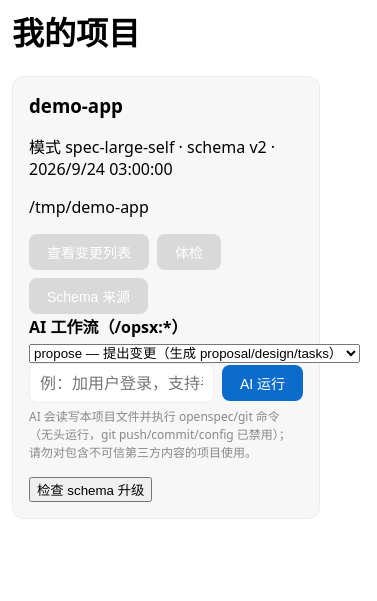
Scenario: ProjectsPage 项目列表 › 点击"体检"跑 cliRun 并展示输出
Click the button "体检". click: (189,252)
box: [157,234,221,270]
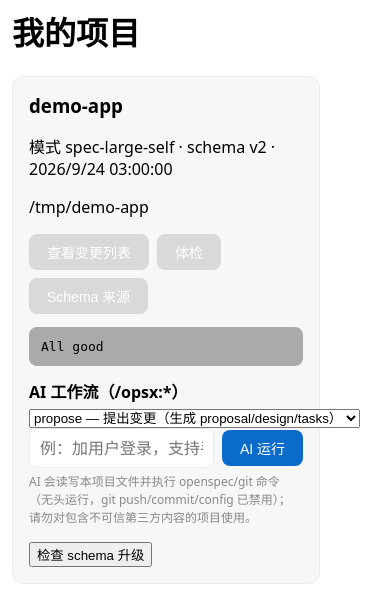
Check: the text "All good" is shown, box [29,327,303,366]
